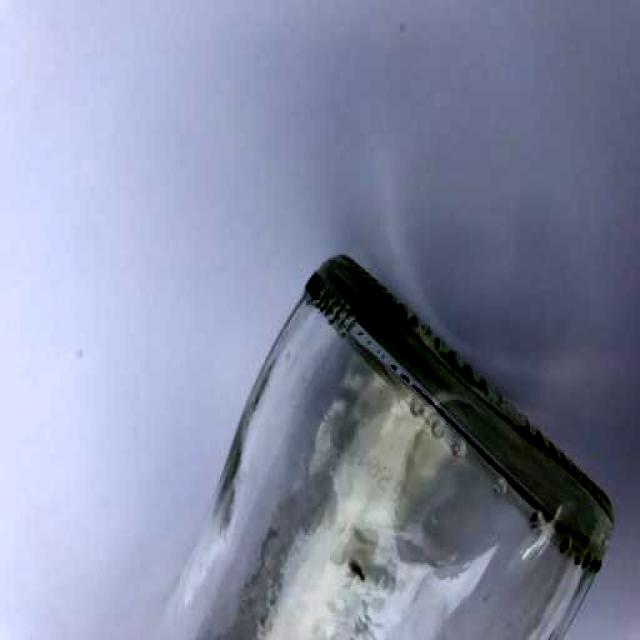Glass: (135, 234, 622, 640)
